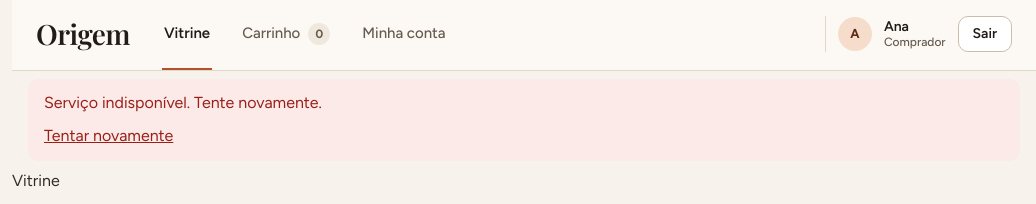
falha ao sincronizar carrinho no login aparece com recuperacao na vitrine
The width and height of the screenshot is (1036, 204).
Expected: the message shows "Serviço indisponível", [44,93,322,112]
Click the button "Tentar novamente": coordinates (109, 136) [44,124,173,149]
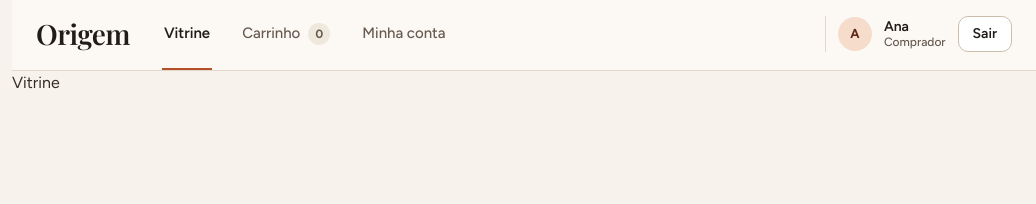
Now the message "Serviço indisponível. Tente novamente. Tentar novamente" is gone
